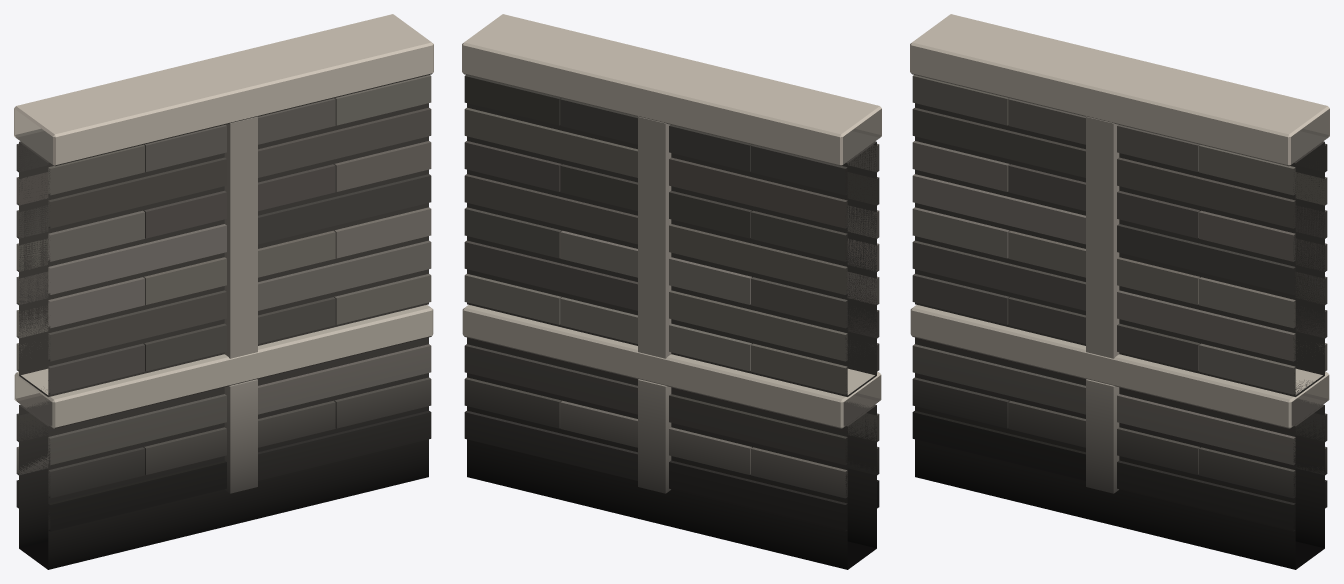
The model's file is SM_VKI_Wall_Mine_Plain_300_Full.fbx.
3 views of the same model, side by side, from view 1: azimuth 30°, elevation 25°; view 2: azimuth 150°, elevation 25°; view 3: azimuth 330°, elevation 25° (orthographic).
Visible parts, largest first — view 1: SM_VKI_Wall_Mine_Plain_300_Full.001; view 2: SM_VKI_Wall_Mine_Plain_300_Full.001; view 3: SM_VKI_Wall_Mine_Plain_300_Full.001.
Boxes of the visible parts, <box> form: SM_VKI_Wall_Mine_Plain_300_Full.001: <box>14,14,433,569</box>; SM_VKI_Wall_Mine_Plain_300_Full.001: <box>462,14,881,569</box>; SM_VKI_Wall_Mine_Plain_300_Full.001: <box>910,14,1329,569</box>.
Bounding box in the file's own units: 3 × 3.3 × 0.56.
